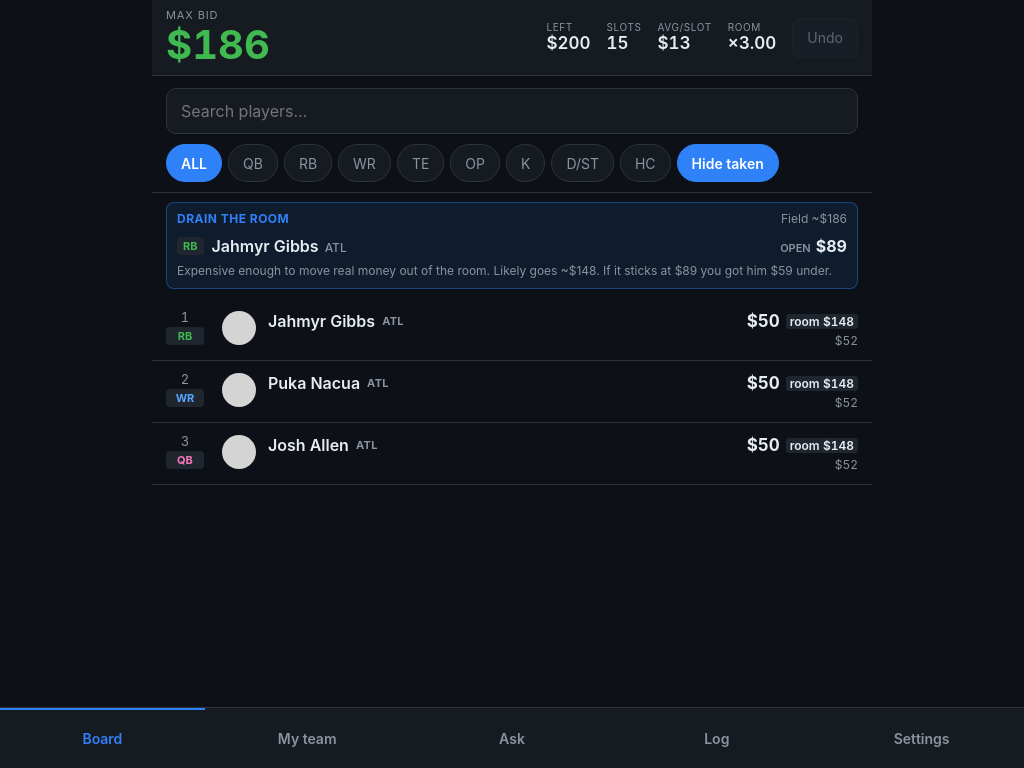
Scenario: draft board end to end › winning a player moves budget, slots and max bid together
Click the text "Jahmyr Gibbs". click: (322, 321)
box: [268,311,375,331]
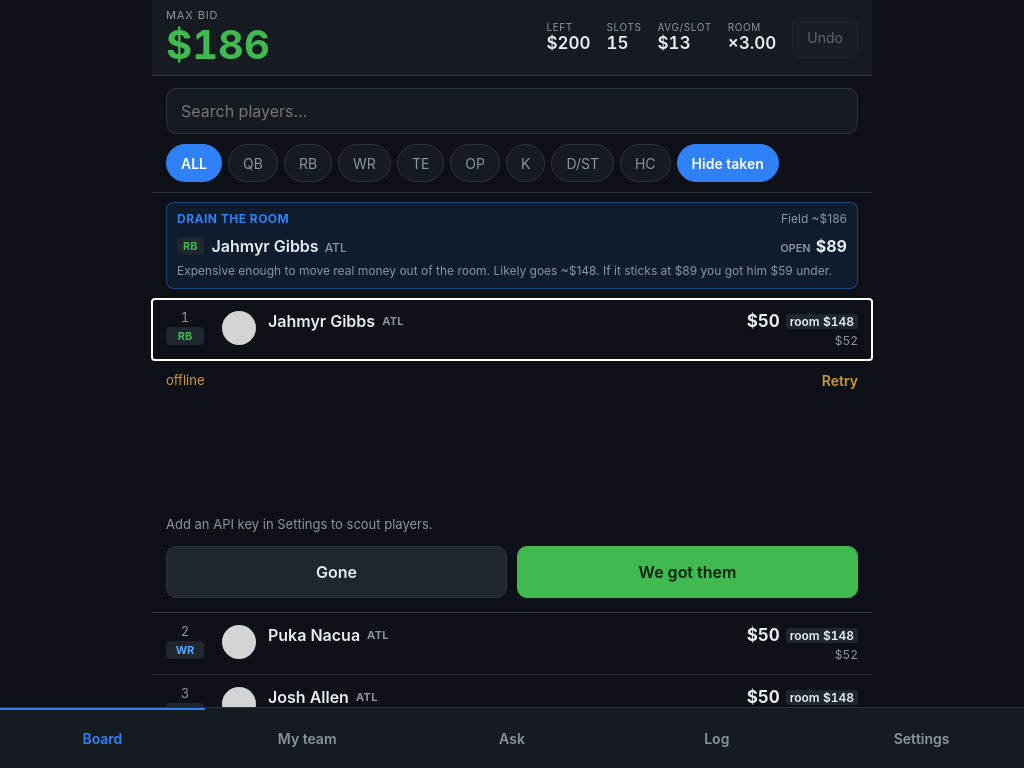
Click the button "We got them". click: (688, 572)
box: [517,546,858,598]
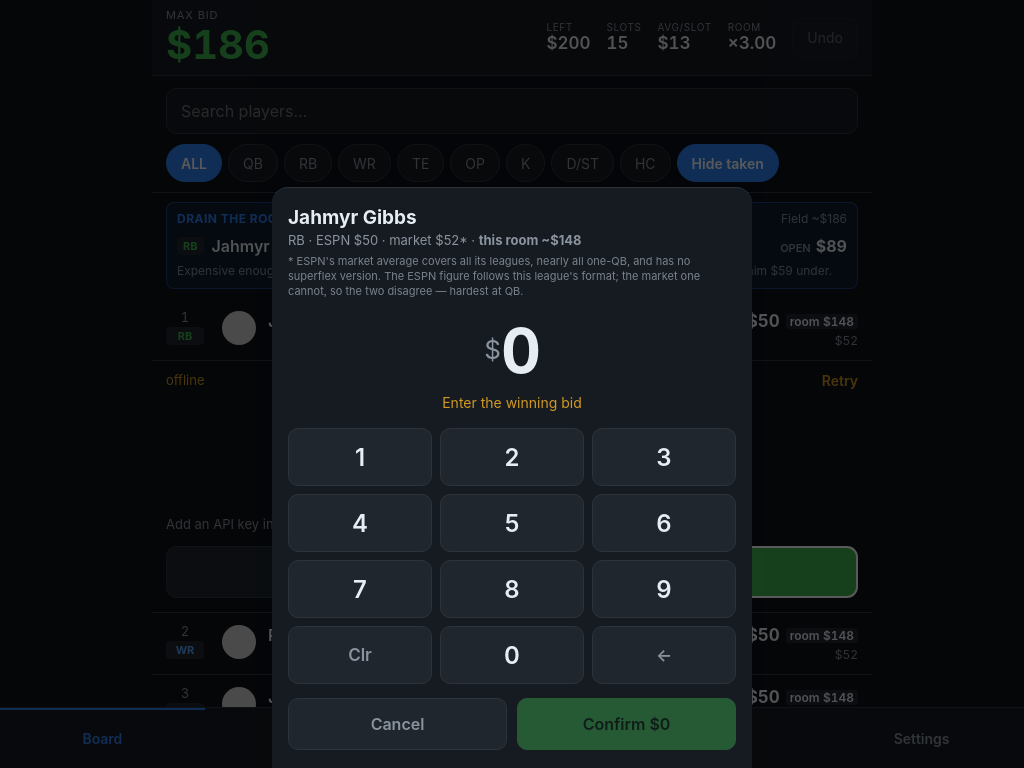
Click the button "5". click: (512, 523)
box: [440,494,584,552]
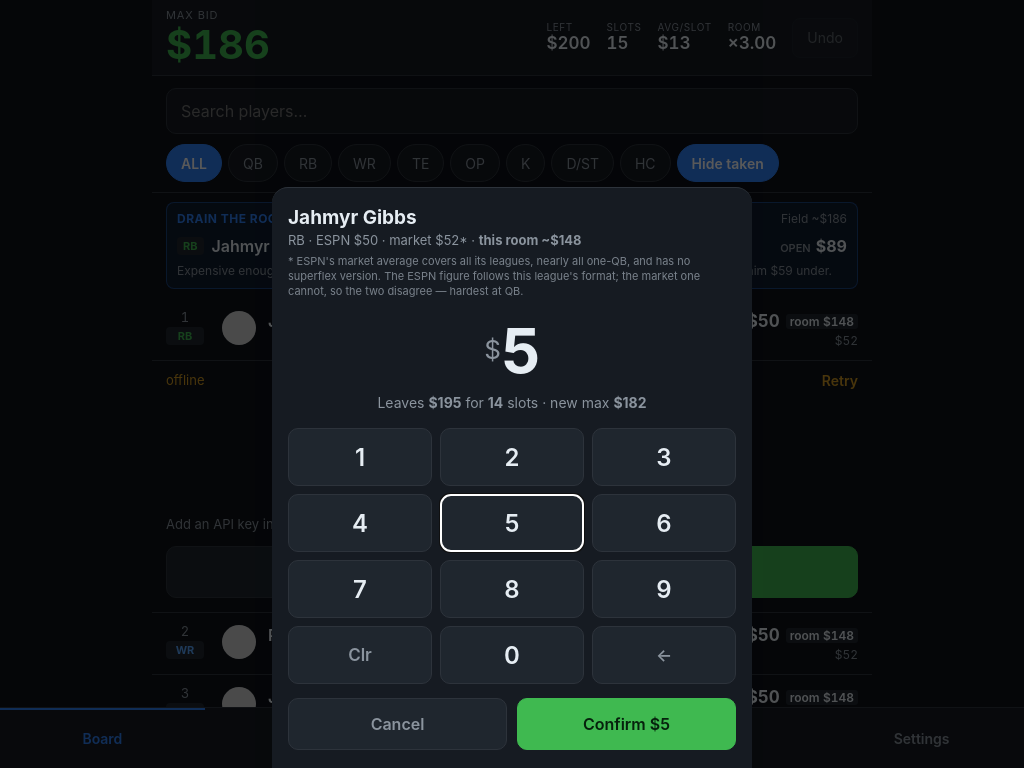
Click the button "7". click: (360, 589)
box: [288,560,432,618]
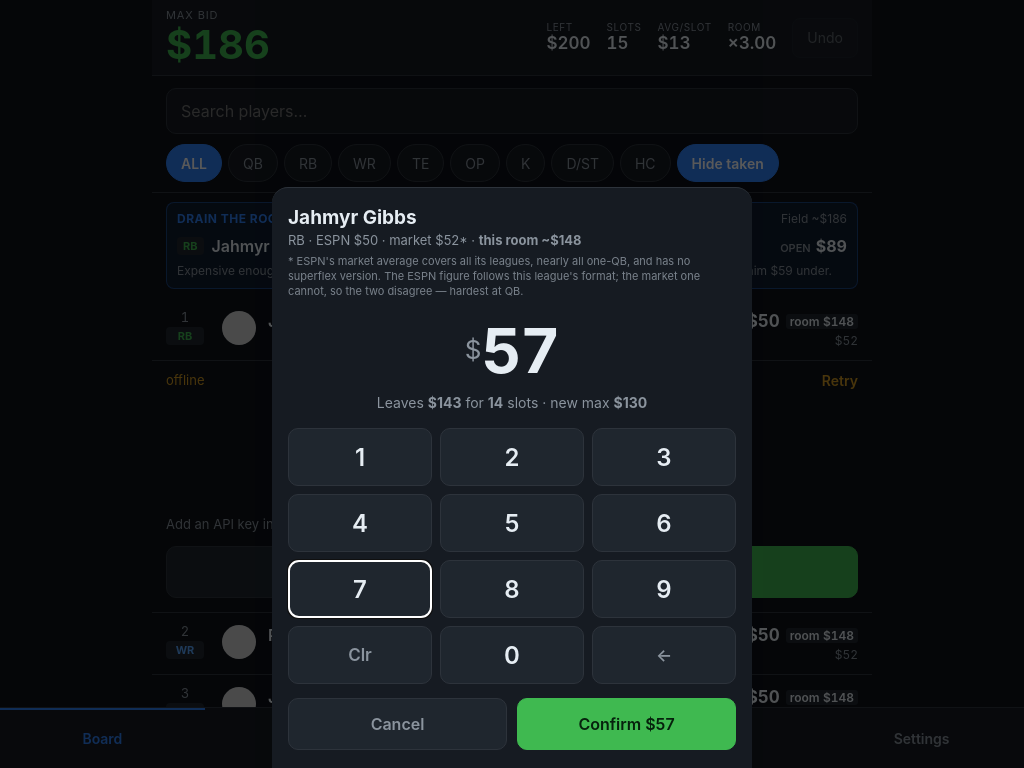
Result: the text "Leaves $143 for 14 slots · new max $130" is shown at [377,394,647,411]
Click the button "Confirm $57". click: (626, 724)
box: [517,698,736,750]
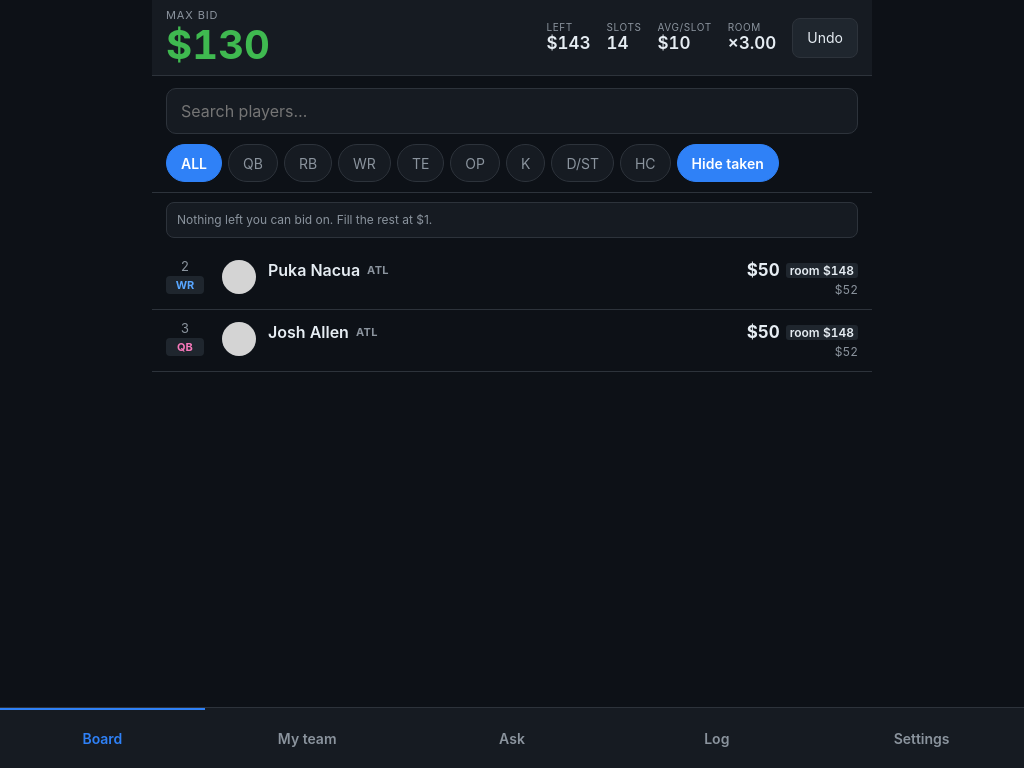
Result: the text "$143" is shown at [546,33,591,54]
Result: the text "14" is shown at [606,33,628,53]
